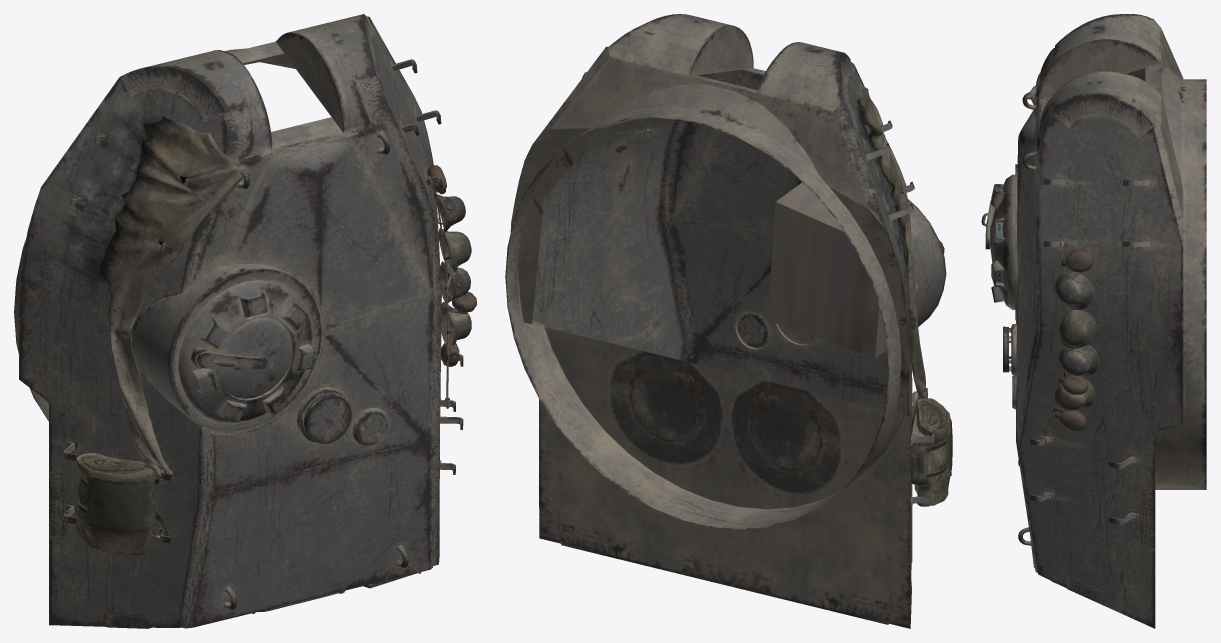
Rendered from Turret_01.glb.
The picture shows the model from 3 angles, left to right: view 1: azimuth 30°, elevation 25°; view 2: azimuth 150°, elevation 25°; view 3: azimuth 270°, elevation 25°; orthographic projection. The views are drawn at different scales.
Visible parts, largest first — view 1: set_0_group_0, set_0_group_1; view 2: set_0_group_0, set_0_group_1; view 3: set_0_group_0.
Boxes of the visible parts, bbox=[...] form: set_0_group_0: bbox=[14, 14, 476, 628]; set_0_group_1: bbox=[76, 115, 420, 588]; set_0_group_0: bbox=[505, 14, 946, 628]; set_0_group_1: bbox=[856, 84, 952, 506]; set_0_group_0: bbox=[981, 14, 1206, 628].
Size of the model in its own units: 2.86 by 3.62 by 1.5.
Materials: 2 (2 with a texture image).
